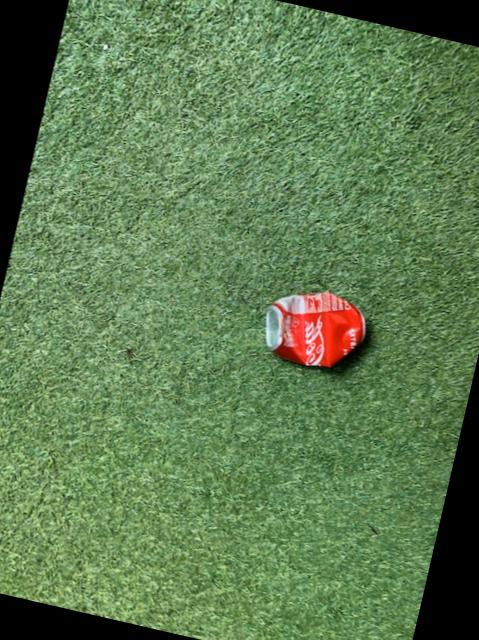metal: (263, 293, 362, 368)
